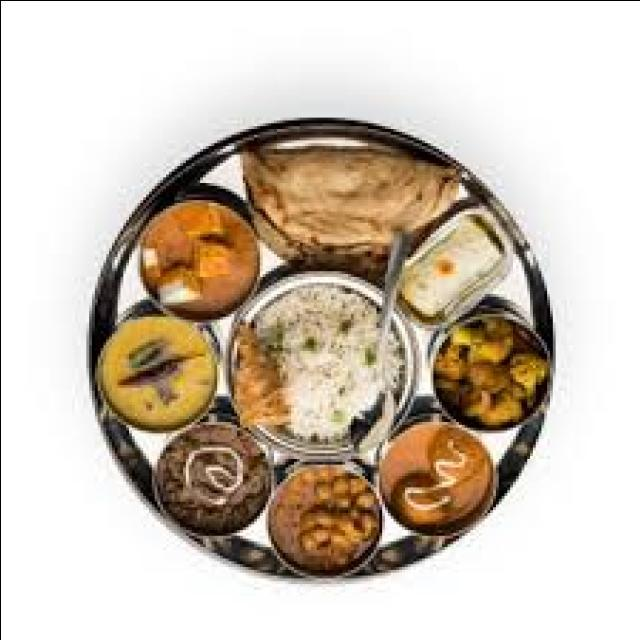dal: (90, 308, 224, 434)
rice: (234, 271, 400, 455)
sweet: (114, 193, 264, 324), (390, 210, 512, 328)
veg-fry: (117, 188, 269, 328), (142, 418, 276, 552), (375, 410, 503, 537), (259, 457, 382, 580)
